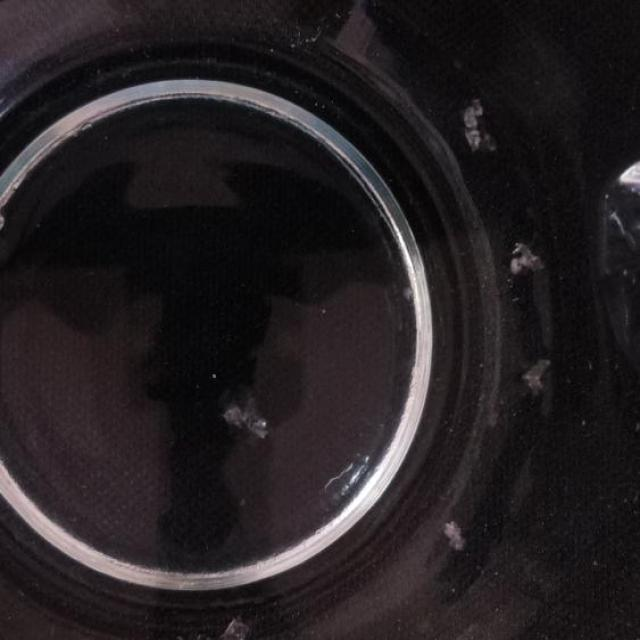fiber: (215, 394, 277, 444), (456, 93, 496, 159), (505, 236, 552, 283), (518, 349, 556, 400), (439, 515, 474, 558), (212, 616, 264, 640)
